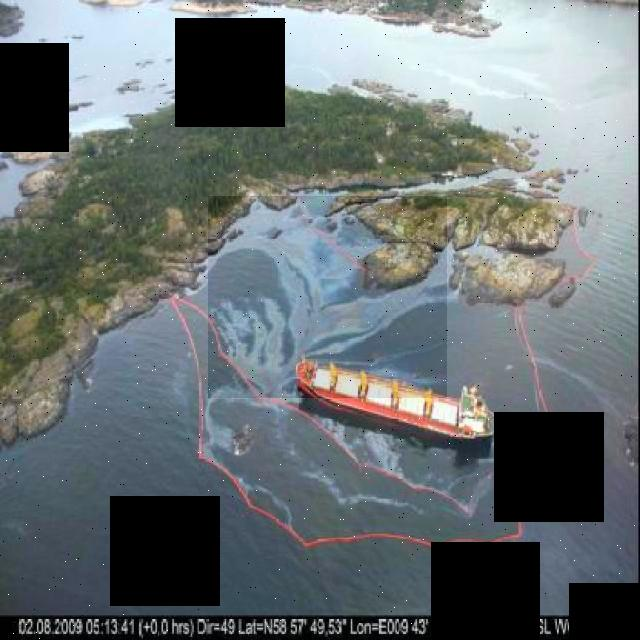oil spill: (209, 196, 447, 398)
